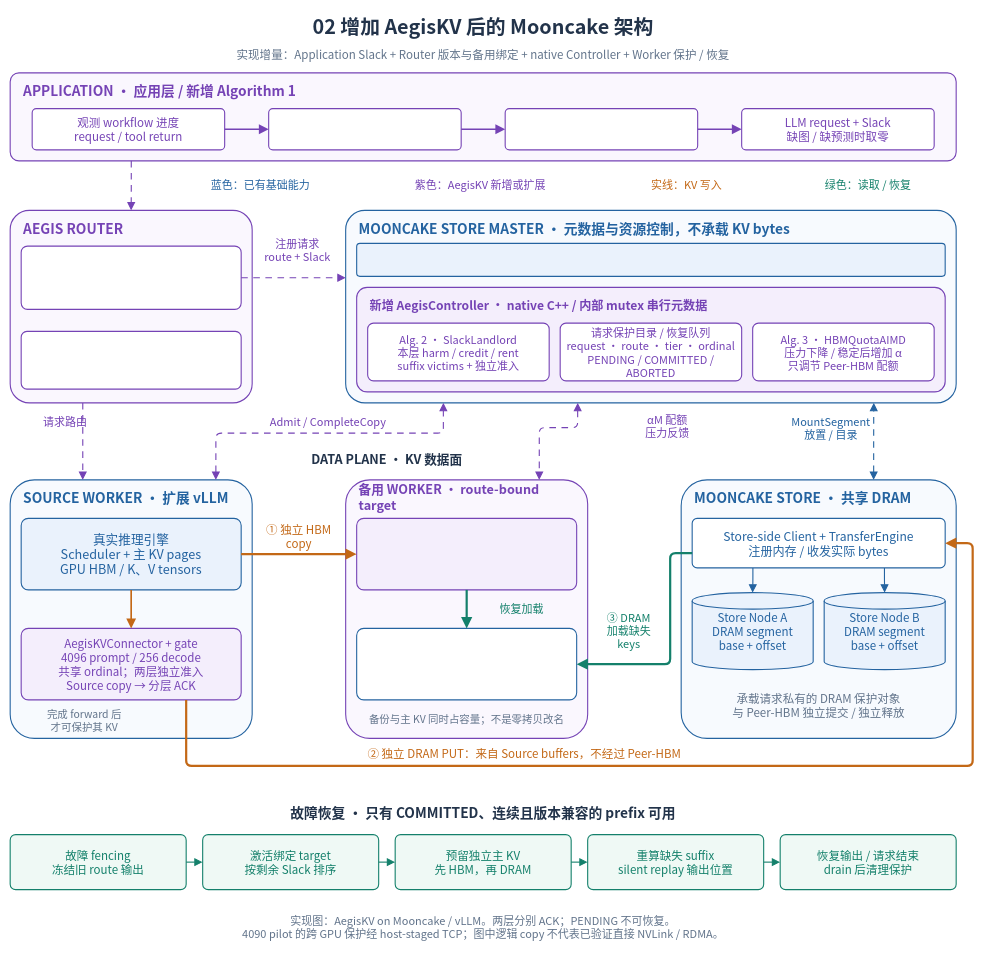
Image size: 989x955. Some labels were removed from this diagram. The box of each missing label's shape, as (x1, y1, x2, y2) in pixels:
GBDT 预测残余时间 仅使用因果可见特征: (268, 108, 461, 150)
Rendezvous 路由 primary + 兼容 standby request salt 隔离不同请求: (20, 245, 241, 310)
保留原生 Master：对象目录 / 放置 / ReplicaInfo / 租约 / RPC: (356, 243, 945, 277)
恢复后独立的主 KV slots 真实 HBM → HBM copy 继续 vLLM forward / replay: (356, 628, 577, 700)
执行权与输出状态 route version / fence 恢复编排 / CompleteRequest: (20, 331, 241, 389)
新增 Peer-HBM 保护副本 位于绑定的备用 GPU COMMITTED 才能恢复: (356, 518, 577, 590)
残余 DAG 上运行 CPM 校准后发布 branch Slack: (504, 108, 698, 150)
